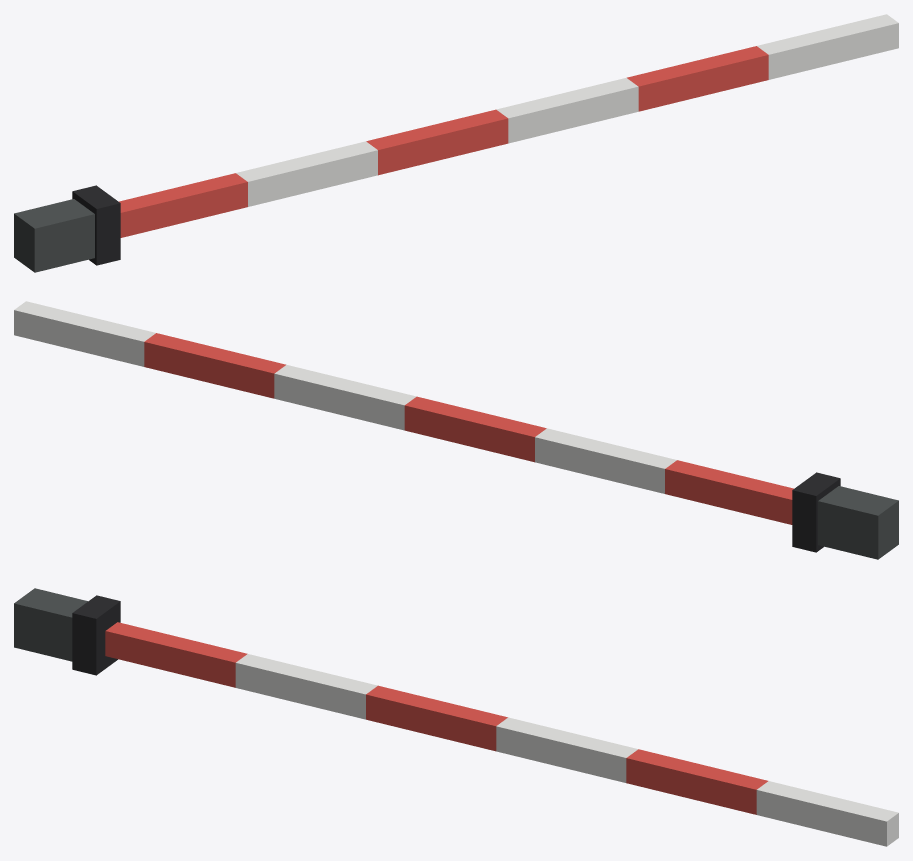
The model's file is barrier_arm.glb.
The picture shows the model from 3 angles, top to bottom: view 1: azimuth 30°, elevation 25°; view 2: azimuth 150°, elevation 25°; view 3: azimuth 330°, elevation 25°; orthographic projection.
Visible parts, largest first — view 1: barrier_arm; view 2: barrier_arm; view 3: barrier_arm.
Boxes of the visible parts, x1,y1,x2,y2 form: barrier_arm: [14, 14, 898, 272]; barrier_arm: [14, 301, 898, 559]; barrier_arm: [14, 588, 898, 846].
Bounding box in the file's own units: 2.89 × 0.18 × 0.14.
